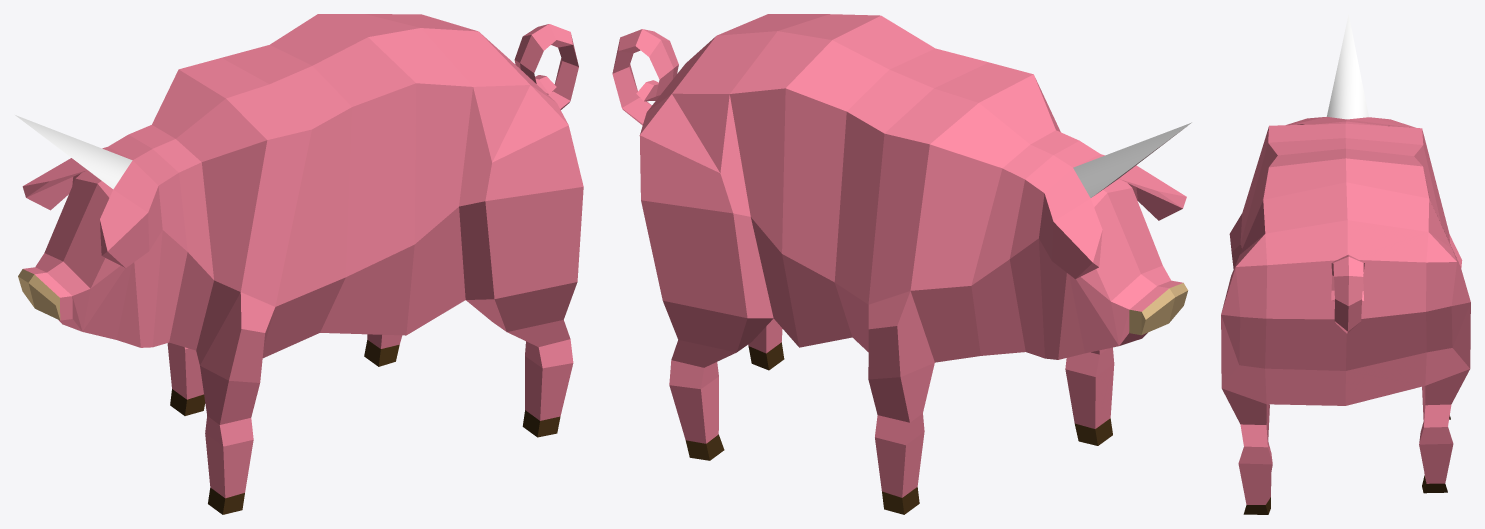
Rendered from pigWalking5.obj.
3 renders of one model, left to right at view 1: azimuth 30°, elevation 25°; view 2: azimuth 150°, elevation 25°; view 3: azimuth 270°, elevation 25°, orthographic. The views are drawn at different scales.
Visible parts, largest first — view 1: Pig_Cylinder; view 2: Pig_Cylinder; view 3: Pig_Cylinder.
Part boxes in pixels (left/top/right/bottom): Pig_Cylinder: left=15, top=14, right=583, bottom=514; Pig_Cylinder: left=612, top=14, right=1191, bottom=514; Pig_Cylinder: left=1221, top=15, right=1470, bottom=514.
Size of the model in its own units: 23.3 by 15.41 by 11.11.
